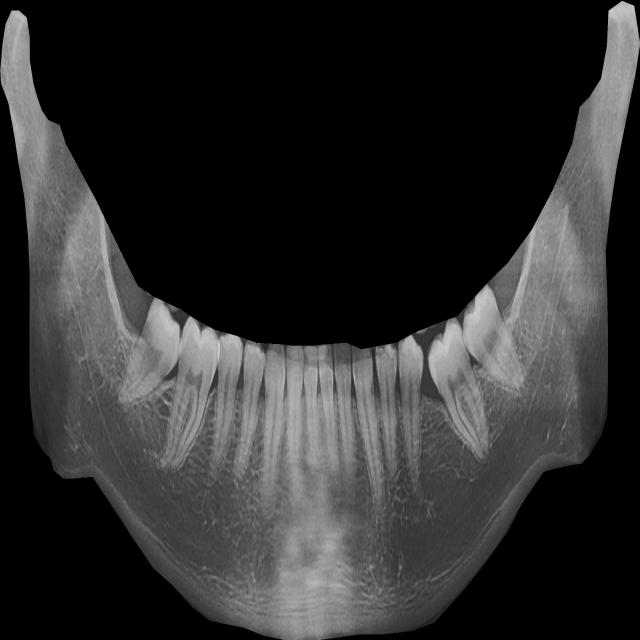mandibula: (0, 1, 640, 640)
